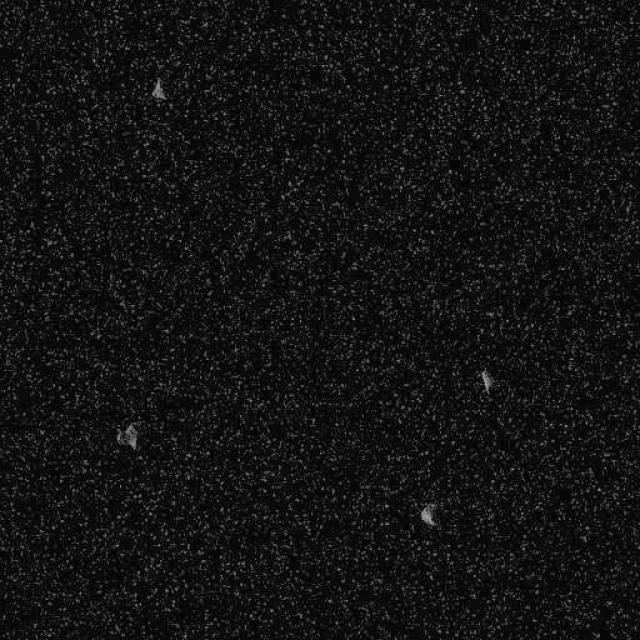D2: (115, 421, 139, 450), (418, 502, 438, 528), (478, 368, 494, 393), (150, 76, 166, 100)
